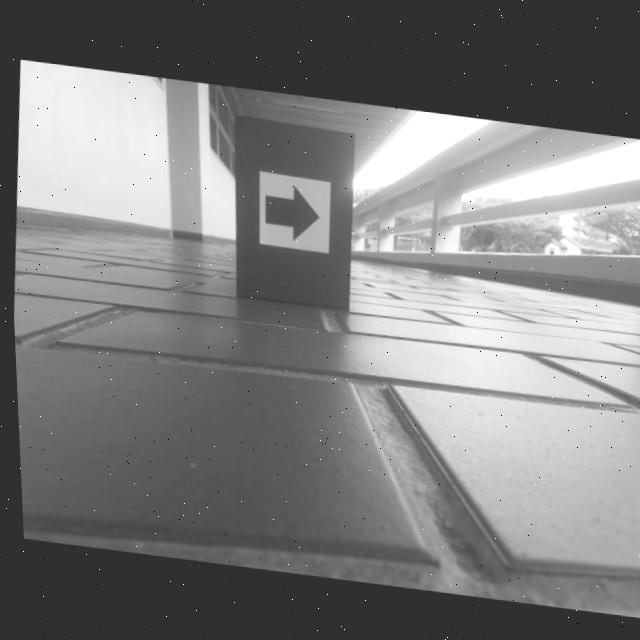RIGHT: (263, 181, 318, 238)
